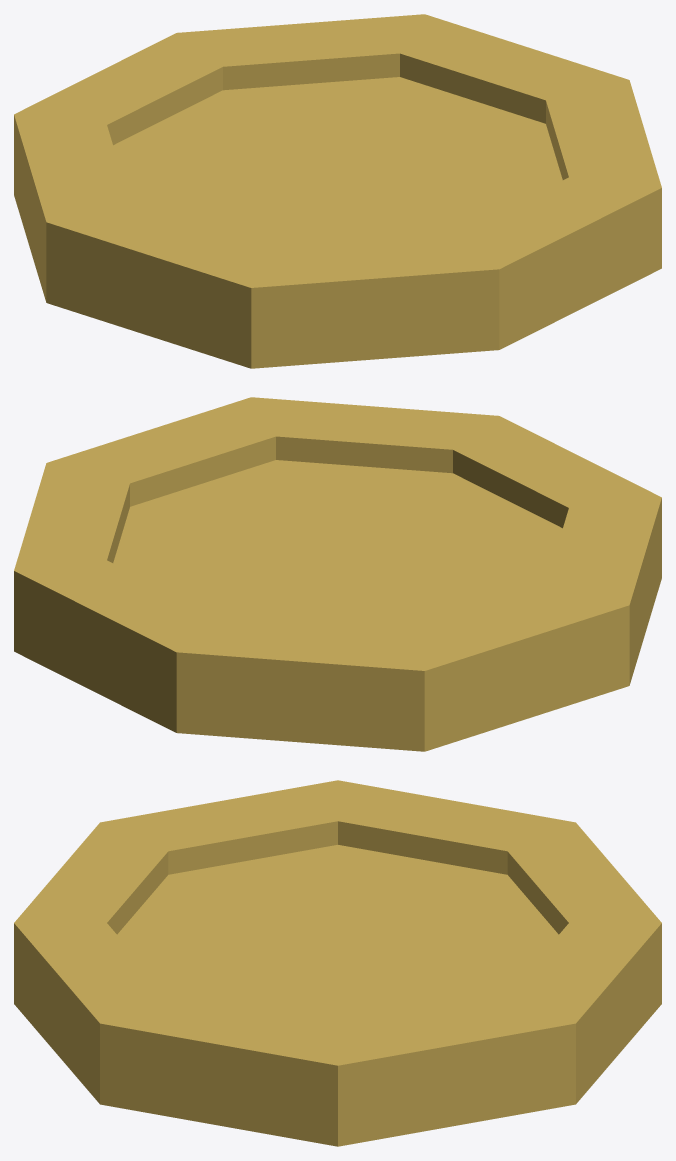
Rendered from Coin.glb.
3 views of the same model, one above another, from view 1: azimuth 30°, elevation 25°; view 2: azimuth 150°, elevation 25°; view 3: azimuth 270°, elevation 25° (orthographic).
Parts seen in each view (by area): view 1: node-0; view 2: node-0; view 3: node-0.
Boxes of the visible parts, <box> form: node-0: <box>14,14,661,368</box>; node-0: <box>14,397,661,751</box>; node-0: <box>14,780,661,1146</box>.
Bounding box in the file's own units: 0.2789 × 0.0369 × 0.2676.
Materials: 1 (1 with a texture image).
